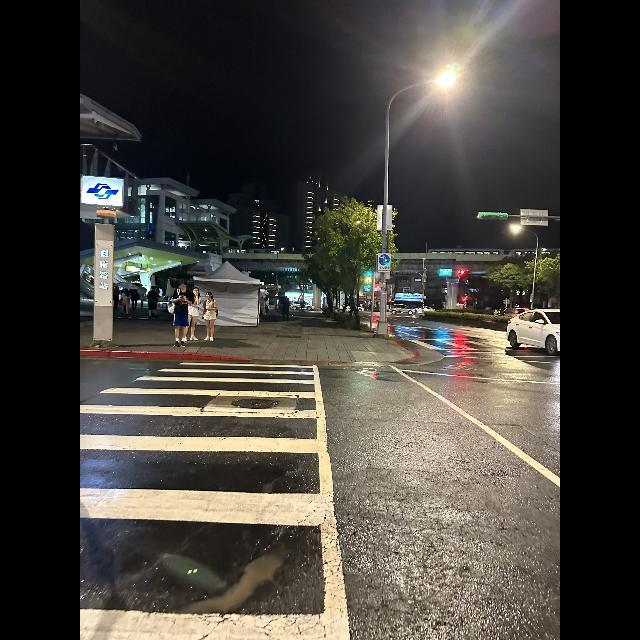sidewalk: (82, 361, 337, 633)
